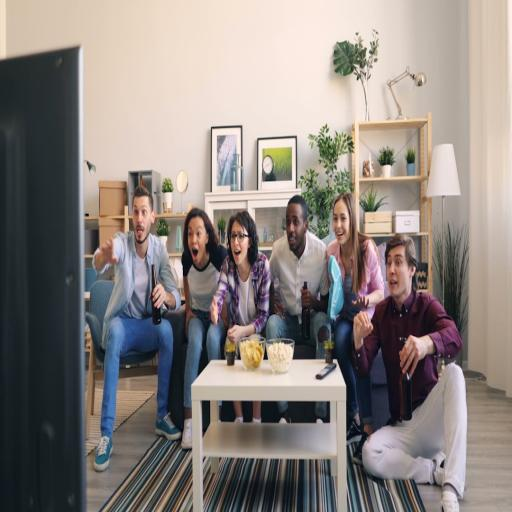face: (386, 246, 415, 306), (286, 203, 308, 256), (188, 216, 209, 268), (133, 197, 155, 244), (229, 221, 250, 266), (333, 200, 350, 245)
